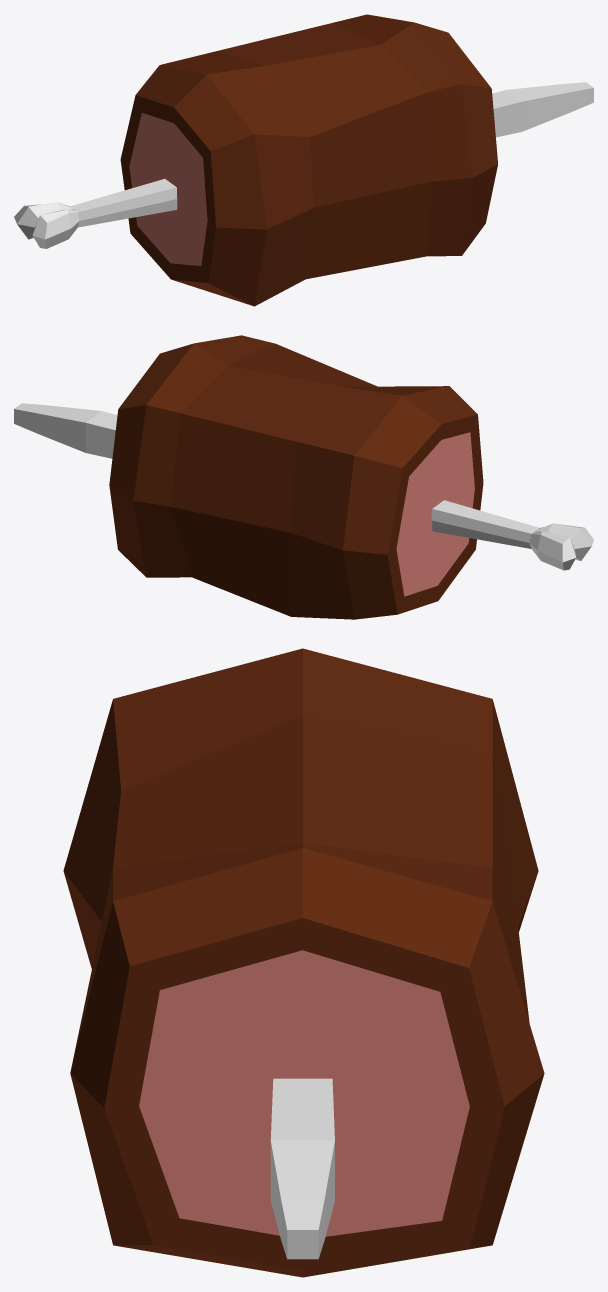
File: MeatStick.fbx
3 renders of one model, top to bottom at view 1: azimuth 30°, elevation 25°; view 2: azimuth 150°, elevation 25°; view 3: azimuth 270°, elevation 25°, orthographic. The views are drawn at different scales.
Parts seen in each view (by area): view 1: Cube, Cube.001; view 2: Cube, Cube.001; view 3: Cube, Cube.001.
Part boxes in pixels (x1,y1,x2,y2): Cube: (120, 14, 497, 306); Cube.001: (14, 82, 593, 248); Cube: (109, 335, 483, 619); Cube.001: (14, 403, 593, 570); Cube: (63, 648, 544, 1277); Cube.001: (270, 1078, 334, 1259).
Bounding box in the file's own units: 687 × 256 × 253.
